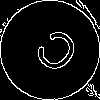C: (25, 25, 83, 84)
